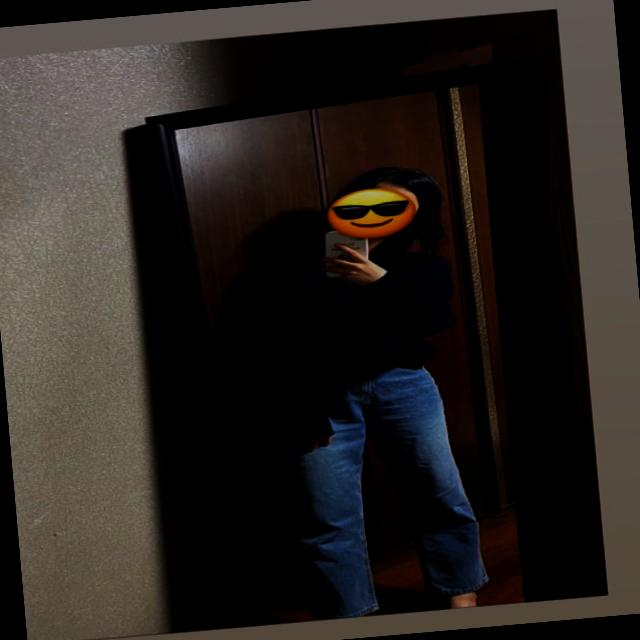denimpants: (269, 348, 490, 616)
longsleeve: (247, 228, 461, 442)
